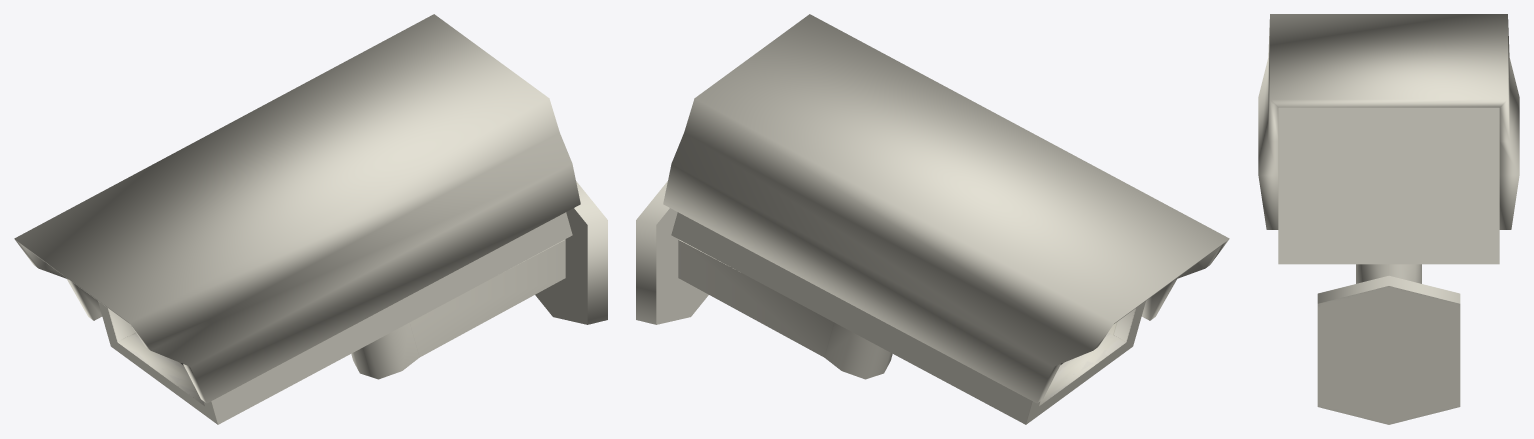
File: assetCameraCCTVModern.fbx
The picture shows the model from 3 angles, left to right: view 1: azimuth 30°, elevation 25°; view 2: azimuth 150°, elevation 25°; view 3: azimuth 270°, elevation 25°; orthographic projection. The views are drawn at different scales.
Visible parts, largest first — view 1: Cube; view 2: Cube; view 3: Cube.
Part boxes in pixels (<box>): Cube: <box>14,14,607,424</box>; Cube: <box>636,14,1229,424</box>; Cube: <box>1258,14,1519,424</box>.
Size of the model in its own units: 36.76 by 19.97 by 16.07.
Materials: 1 (1 with a texture image).
